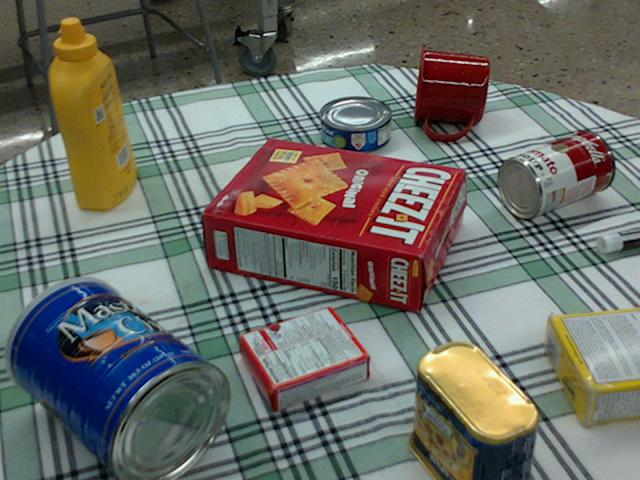cracker_box: (200, 135, 464, 312)
gelatin_box: (238, 306, 371, 408)
large_marker: (597, 227, 639, 251)
master_chef_can: (2, 278, 229, 479)
mug: (412, 45, 489, 139)
mustard_bottle: (50, 18, 136, 209)
potted_meat_can: (407, 338, 538, 479)
sugar_box: (545, 308, 639, 429)
tomato_soup_can: (497, 130, 613, 216)
tuna_fish_can: (319, 96, 391, 152)
